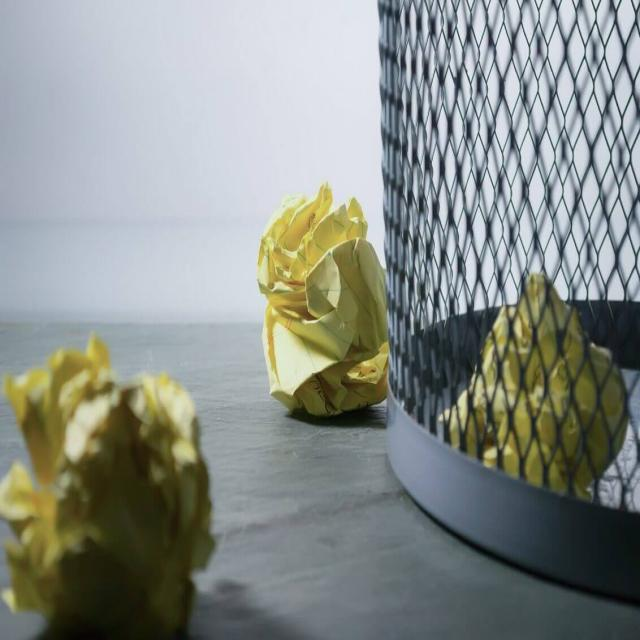Kertas: (17, 306, 242, 618), (452, 223, 625, 516), (234, 145, 415, 403)
